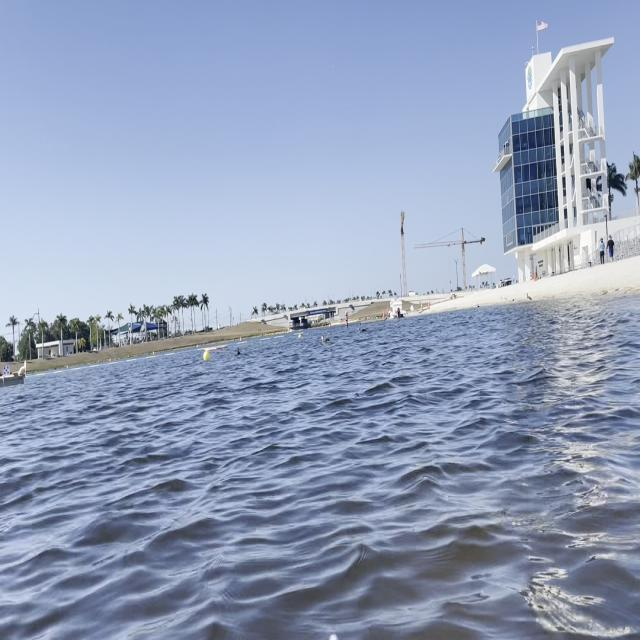buoy: (202, 350, 210, 362)
